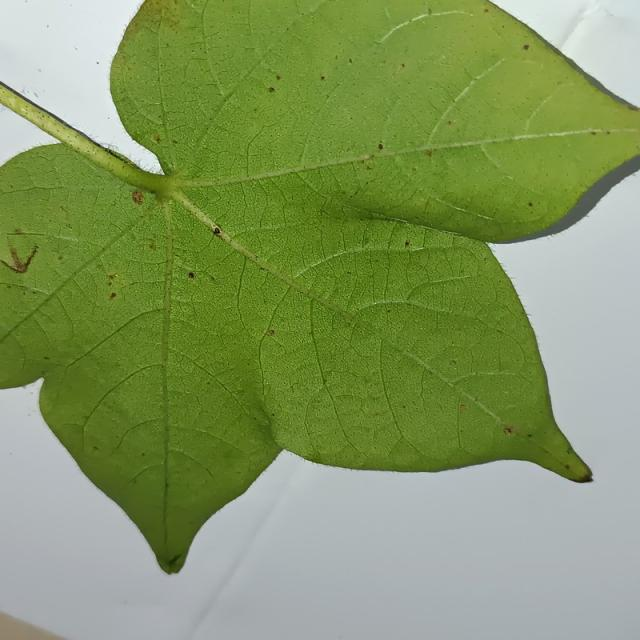Bacterial_Blight: (157, 4, 183, 32), (263, 63, 288, 90), (210, 224, 232, 244), (18, 84, 41, 99), (104, 286, 124, 302), (131, 190, 144, 205), (503, 425, 517, 435), (423, 198, 431, 215), (364, 159, 374, 170), (13, 228, 23, 234), (109, 273, 116, 281), (59, 205, 67, 212), (154, 135, 161, 143), (459, 404, 466, 412), (266, 330, 274, 337), (628, 105, 637, 111), (425, 150, 432, 157), (149, 243, 155, 250), (268, 87, 275, 93), (188, 272, 195, 278), (523, 44, 529, 50), (450, 360, 457, 365), (378, 143, 383, 150), (58, 255, 63, 261), (447, 120, 453, 125), (591, 130, 597, 135), (405, 241, 410, 247), (564, 464, 570, 469), (43, 356, 50, 360), (428, 8, 432, 15), (400, 63, 405, 68), (348, 59, 353, 64), (93, 445, 98, 450), (528, 202, 533, 207), (320, 76, 325, 80), (484, 9, 489, 13), (323, 378, 327, 383), (527, 434, 532, 438), (386, 309, 391, 313), (271, 413, 275, 417), (38, 69, 42, 72), (96, 61, 99, 64)
Cotton: (0, 0, 639, 574)
